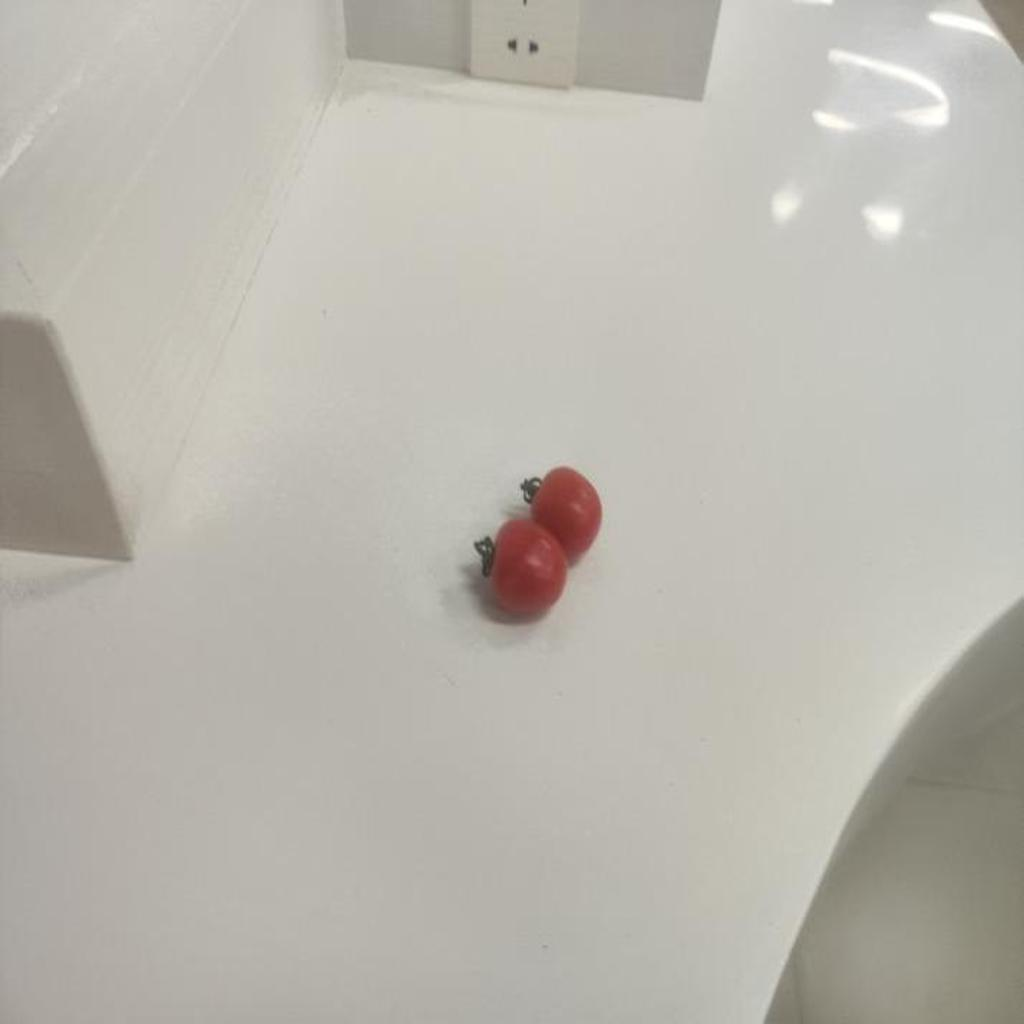tomato: (471, 519, 569, 621), (516, 465, 616, 560)
